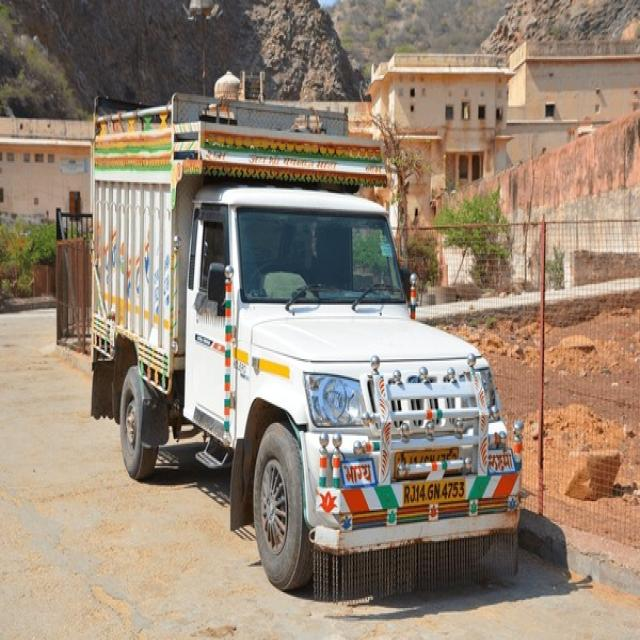light_vehicle: (86, 104, 522, 598)
